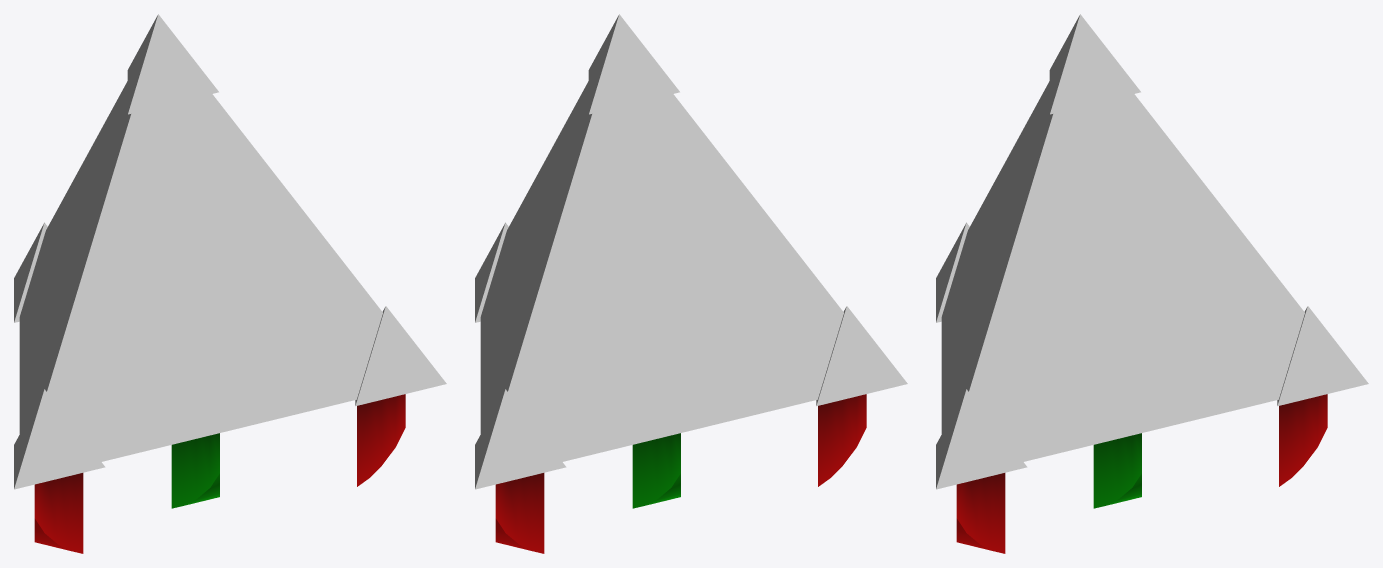
The picture shows the model from 3 angles, left to right: view 1: azimuth 30°, elevation 25°; view 2: azimuth 150°, elevation 25°; view 3: azimuth 270°, elevation 25°; orthographic projection.
Visible parts, largest first — view 1: Body, Legs, Cap_3, Cap_0, Cap_1, Cap_2; view 2: Body, Legs, Cap_3, Cap_2, Cap_0, Cap_1; view 3: Body, Legs, Cap_3, Cap_1, Cap_2, Cap_0.
Part boxes in pixels (<box>): Body: <box>19,81,382,461</box>; Legs: <box>34,394,405,553</box>; Cap_3: <box>127,14,218,114</box>; Cap_0: <box>14,389,105,489</box>; Cap_1: <box>355,306,446,406</box>; Cap_2: <box>14,222,47,322</box>; Body: <box>480,81,843,461</box>; Legs: <box>495,394,866,553</box>; Cap_3: <box>588,14,679,114</box>; Cap_2: <box>475,389,566,489</box>; Cap_0: <box>816,306,907,406</box>; Cap_1: <box>475,222,508,322</box>; Body: <box>941,81,1304,461</box>; Legs: <box>956,394,1327,553</box>; Cap_3: <box>1049,14,1140,114</box>; Cap_1: <box>936,389,1027,489</box>; Cap_2: <box>1277,306,1368,406</box>; Cap_0: <box>936,222,969,322</box>.
Size of the model in its own units: 170 by 173 by 147.
